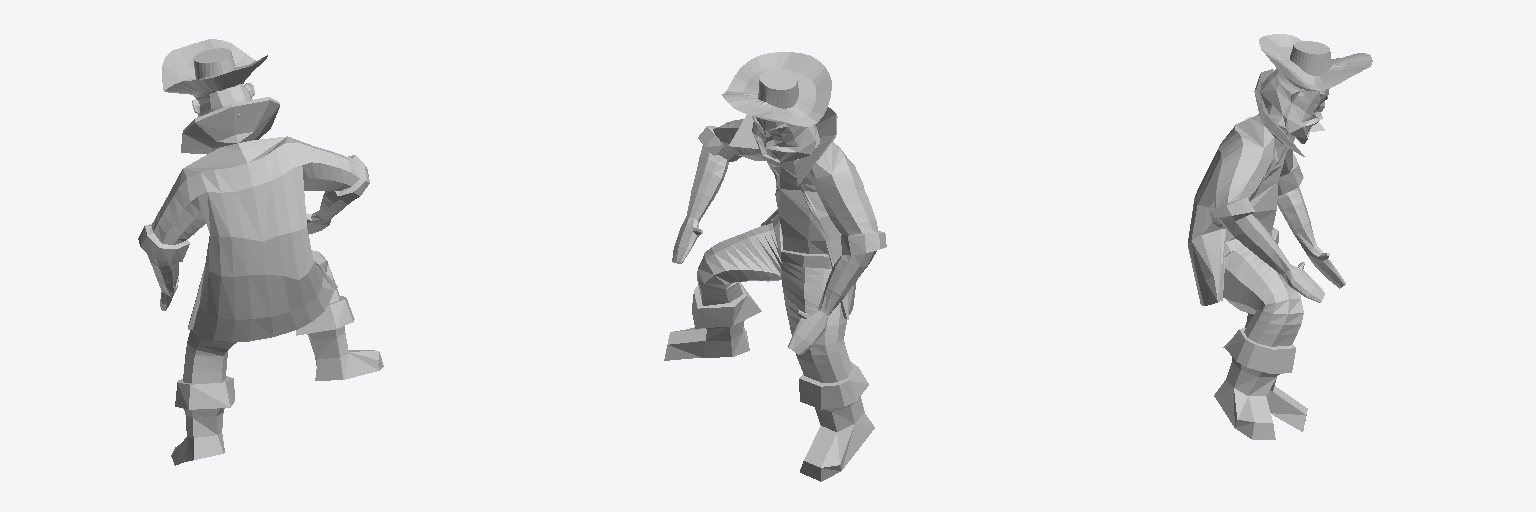
The model's file is pirata_000282.obj.
The picture shows the model from 3 angles: view 1: azimuth 30°, elevation 25°; view 2: azimuth 150°, elevation 25°; view 3: azimuth 270°, elevation 25°; orthographic projection.
Visible parts, largest first — view 1: Pirata_PirataH; view 2: Pirata_PirataH; view 3: Pirata_PirataH.
Part boxes in pixels (x1,y1,x2,y2): Pirata_PirataH: (138, 39, 383, 465); Pirata_PirataH: (664, 52, 886, 481); Pirata_PirataH: (1188, 34, 1372, 439).
Bounding box in the file's own units: 5.75 × 9.7 × 4.05.